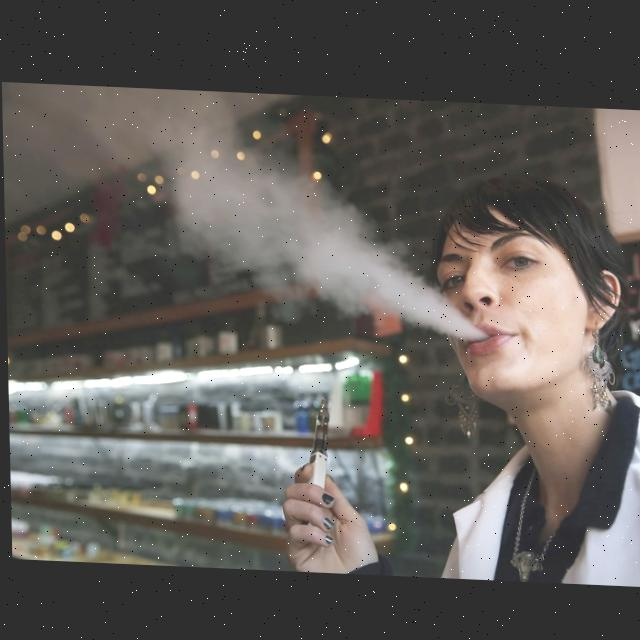vape: (307, 395, 328, 484)
